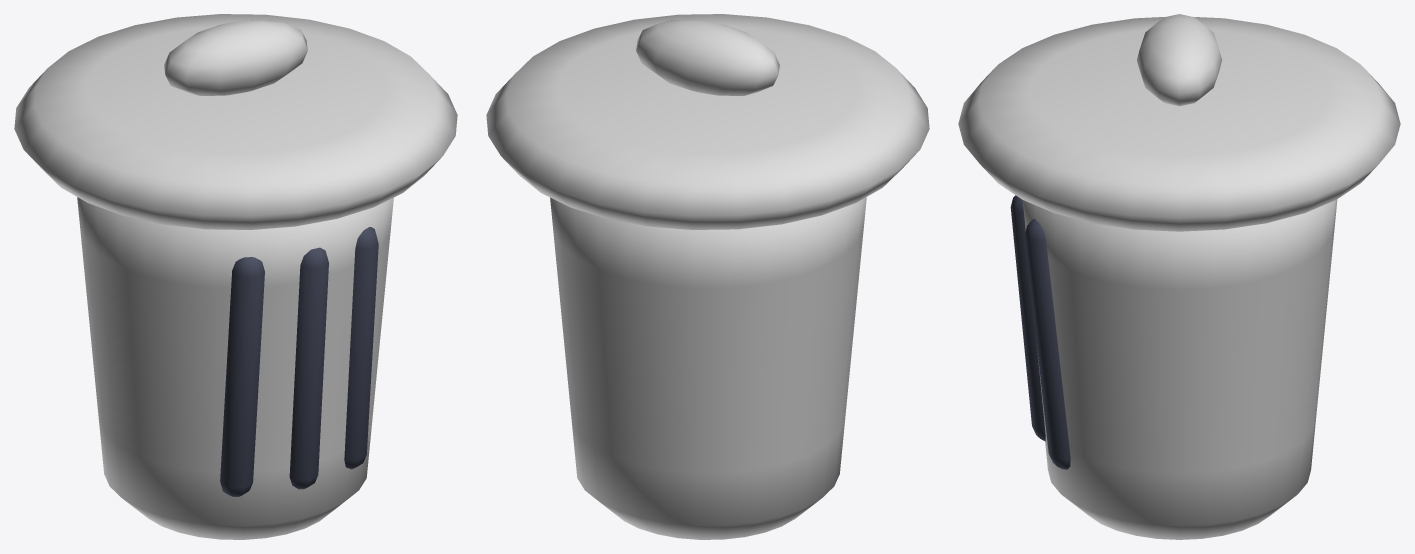
File: trash.glb
3 views of the same model, side by side, from view 1: azimuth 30°, elevation 25°; view 2: azimuth 150°, elevation 25°; view 3: azimuth 270°, elevation 25° (orthographic).
Parts seen in each view (by area): view 1: trash; view 2: trash; view 3: trash.
Part boxes in pixels (bbox=[...]): trash: bbox=[14, 14, 457, 539]; trash: bbox=[486, 14, 929, 539]; trash: bbox=[958, 14, 1400, 539].
Bounding box in the file's own units: 0.8478 × 1 × 0.8478.
